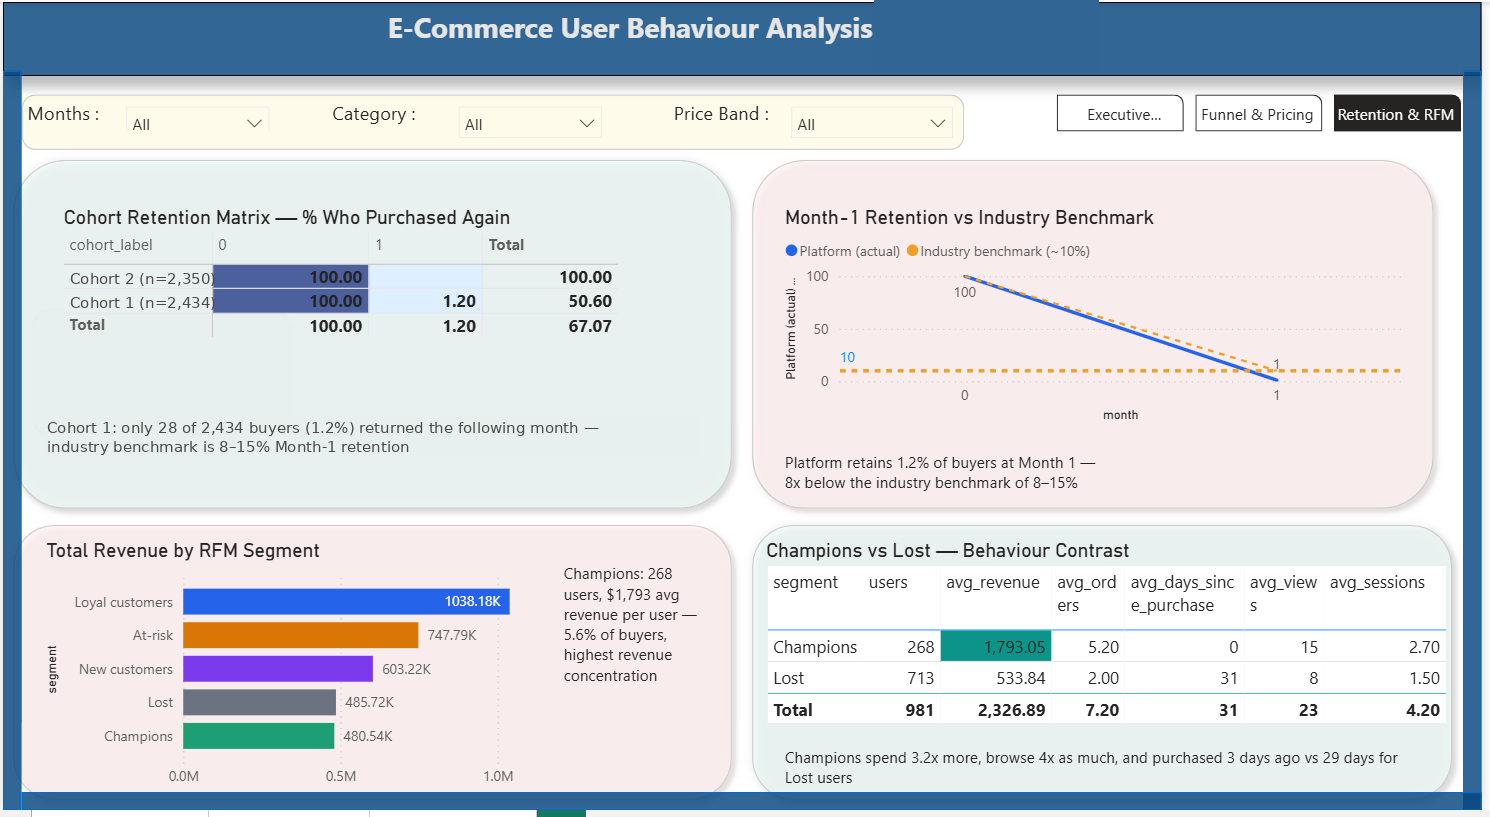

What the dashboard file says about the page in this screenshot:
{"tool":"powerbi","page":{"name":"Retention & RFM ","canvas":[1280,700],"ordinal":2},"visuals":[{"type":"shape","box":[16,80,816,48],"z":0},{"type":"shape","box":[16,256,240,128],"z":1000},{"type":"shape","box":[640,128,608,320],"z":2000},{"type":"shape","box":[0,128,640,320],"z":3000},{"type":"textbox","box":[0,0,1280,64],"z":4000},{"type":"slicer","title":"Months","fields":{"Values":["events.month_label"]},"box":[96,80,144,32],"z":5000},{"type":"slicer","fields":{"Values":["events.category_code"]},"box":[384,80,144,48],"z":6000},{"type":"slicer","fields":{"Values":["events.price_band"]},"box":[672,80,160,48],"z":7000},{"type":"textbox","box":[16,80,80,32],"z":8000},{"type":"textbox","box":[280,80,112,32],"z":9000},{"type":"textbox","box":[576,80,112,32],"z":10000},{"type":"shape","box":[0,444,640,256],"z":11000},{"type":"shape","box":[640,444,624,256],"z":12000},{"type":"textbox","box":[32,352,560,80],"z":13000},{"type":"textbox","box":[672,384,544,48],"z":14000},{"type":"textbox","box":[672,640,560,48],"z":15000},{"type":"shape","box":[0,60,16,640],"z":16000},{"type":"shape","box":[1264,60,16,640],"z":17000},{"type":"shape","box":[16,684,1264,16],"z":18000},{"type":"pivotTable","title":"Cohort Retention Matrix — % Who Purchased Again","fields":{"Columns":["m5_cohort_retention.months_since_first"],"Values":["Avg(m5_cohort_retention.retention_pct)"],"Rows":["m5_cohort_retention.cohort_label"]},"box":[48,176,496,128],"z":19000},{"type":"lineChart","title":"Month-1 Retention vs Industry Benchmark","fields":{"Category":["RetentionBenchmark.month"],"Y":["Sum(RetentionBenchmark.platform_retention)","Sum(RetentionBenchmark.benchmark)"]},"box":[672,176,544,192],"z":20000},{"type":"clusteredBarChart","title":"Total Revenue by RFM Segment","fields":{"Category":["RFMSegments.segment"],"Y":["Sum(RFMSegments.total_segment_revenue)"]},"box":[32,464,480,224],"z":21000},{"type":"textbox","box":[480,480,128,144],"z":22000},{"type":"tableEx","title":"Champions vs Lost — Behaviour Contrast","fields":{"Values":["m6_champions_vs_lost.segment","Sum(m6_champions_vs_lost.users)","Sum(m6_champions_vs_lost.avg_revenue)","Sum(m6_champions_vs_lost.avg_orders)","Sum(m6_champions_vs_lost.avg_days_since_purchase)","Sum(m6_champions_vs_lost.avg_views)","Sum(m6_champions_vs_lost.avg_sessions)"]},"box":[656,464,624,176],"z":23000},{"type":"pageNavigator","box":[912,80,352,32],"z":24000}]}

Visuals, with their boxes in screenshot pixels (x1, y1, x2, y2), scaled from the page's 1280x700 canvas onto the 1490x817 screenshot:
shape: bbox=(19, 93, 968, 149)
shape: bbox=(19, 299, 298, 448)
shape: bbox=(745, 149, 1453, 523)
shape: bbox=(0, 149, 745, 523)
textbox: bbox=(0, 0, 1489, 75)
"Months" slicer: bbox=(112, 93, 279, 131)
slicer - events.category_code: bbox=(447, 93, 615, 149)
slicer - events.price_band: bbox=(782, 93, 968, 149)
textbox: bbox=(19, 93, 112, 131)
textbox: bbox=(326, 93, 456, 131)
textbox: bbox=(670, 93, 801, 131)
shape: bbox=(0, 518, 745, 816)
shape: bbox=(745, 518, 1471, 816)
textbox: bbox=(37, 411, 689, 504)
textbox: bbox=(782, 448, 1416, 504)
textbox: bbox=(782, 747, 1434, 803)
shape: bbox=(0, 70, 19, 816)
shape: bbox=(1471, 70, 1489, 816)
shape: bbox=(19, 798, 1489, 816)
"Cohort Retention Matrix — % Who Purchased Again" pivotTable: bbox=(56, 205, 633, 355)
"Month-1 Retention vs Industry Benchmark" lineChart: bbox=(782, 205, 1416, 430)
"Total Revenue by RFM Segment" clusteredBarChart: bbox=(37, 542, 596, 803)
textbox: bbox=(559, 560, 708, 728)
"Champions vs Lost — Behaviour Contrast" tableEx: bbox=(764, 542, 1489, 747)
pageNavigator: bbox=(1062, 93, 1471, 131)
